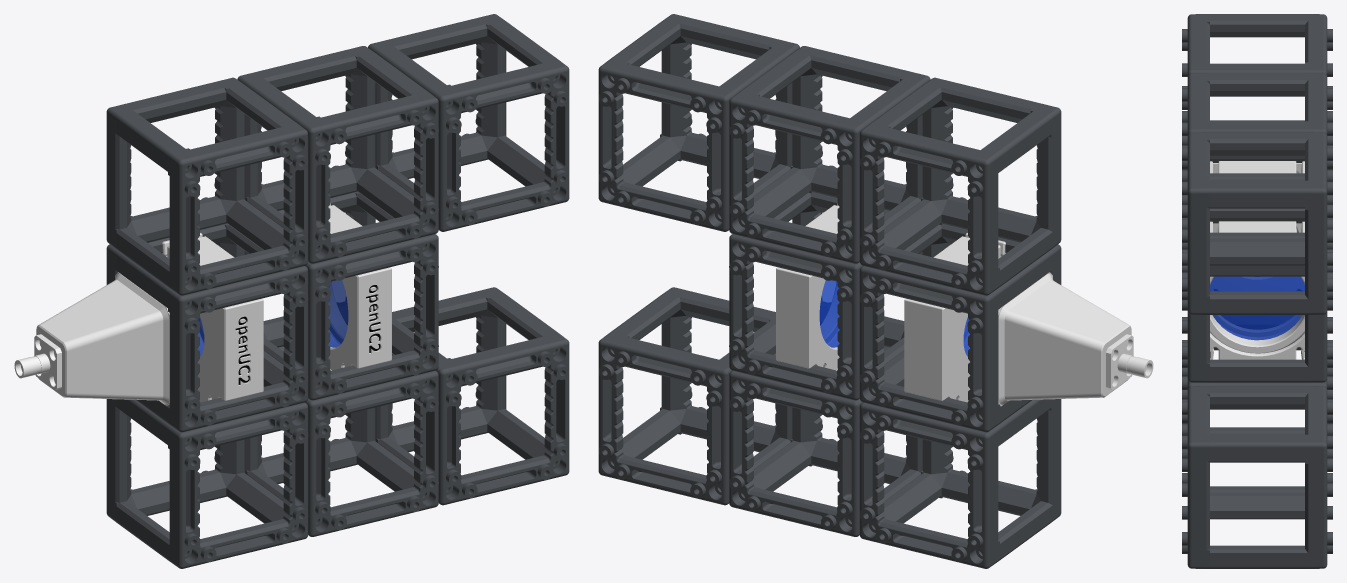
File: ASS_-_1002_-_FLULAY001.glb
The picture shows the model from 3 angles, left to right: view 1: azimuth 30°, elevation 25°; view 2: azimuth 150°, elevation 25°; view 3: azimuth 270°, elevation 25°; orthographic projection. The views are drawn at different scales.
Parts seen in each view (by area): view 1: PRT - 1003 - CUBHLF111 - V04:2 (×8), PRT - 1003 - CUBHLF111 - V04:1 (×8), PRT - 2137 - FIBMNT - V04:1, PRT - 2135 - INSLEND25F60 - V04:1, PRT - 2133 - INSLEND40F160 - V04:1, BUY - Fiber holer - SMA:1, BUY - Lens - f160 D40 sA6.37 sI9.24 bi-cx:1; view 2: PRT - 1003 - CUBHLF111 - V04:1 (×8), PRT - 1003 - CUBHLF111 - V04:2 (×8), PRT - 2137 - FIBMNT - V04:1, PRT - 2135 - INSLEND25F60 - V04:1, PRT - 2133 - INSLEND40F160 - V04:1, BUY - Fiber holer - SMA:1, BUY - Lens - f160 D40 sA6.37 sI9.24 bi-cx:1; view 3: PRT - 1003 - CUBHLF111 - V04:1 (×8), PRT - 1003 - CUBHLF111 - V04:2 (×6), BUY - Lens - f160 D40 sA6.37 sI9.24 bi-cx:1, PRT - 2133 - INSLEND40F160 - V04:1, PRT - 2135 - INSLEND25F60 - V04:1, PRT - 2134 - SLTNUTD40:1.
Boxes of the visible parts, x1,y1,x2,y2 form: PRT - 1003 - CUBHLF111 - V04:2 (×8): (116, 21, 569, 568); PRT - 1003 - CUBHLF111 - V04:1 (×8): (106, 14, 555, 527); PRT - 2137 - FIBMNT - V04:1: (36, 272, 169, 406); PRT - 2135 - INSLEND25F60 - V04:1: (162, 233, 263, 402); PRT - 2133 - INSLEND40F160 - V04:1: (284, 203, 391, 370); BUY - Fiber holer - SMA:1: (14, 334, 61, 390); BUY - Lens - f160 D40 sA6.37 sI9.24 bi-cx:1: (328, 280, 348, 347); PRT - 1003 - CUBHLF111 - V04:1 (×8): (598, 47, 1051, 568); PRT - 1003 - CUBHLF111 - V04:2 (×8): (611, 14, 1061, 560); PRT - 2137 - FIBMNT - V04:1: (998, 272, 1131, 406); PRT - 2135 - INSLEND25F60 - V04:1: (904, 233, 1005, 402); PRT - 2133 - INSLEND40F160 - V04:1: (776, 203, 883, 370); BUY - Fiber holer - SMA:1: (1106, 334, 1153, 390); BUY - Lens - f160 D40 sA6.37 sI9.24 bi-cx:1: (819, 280, 839, 347); PRT - 1003 - CUBHLF111 - V04:1 (×8): (1210, 14, 1332, 568); PRT - 1003 - CUBHLF111 - V04:2 (×6): (1182, 14, 1304, 568); BUY - Lens - f160 D40 sA6.37 sI9.24 bi-cx:1: (1210, 276, 1304, 340); PRT - 2133 - INSLEND40F160 - V04:1: (1210, 221, 1304, 359); PRT - 2135 - INSLEND25F60 - V04:1: (1210, 161, 1304, 291); PRT - 2134 - SLTNUTD40:1: (1210, 276, 1304, 353).
Bounding box in the file's own units: 197 × 150 × 53.8.
